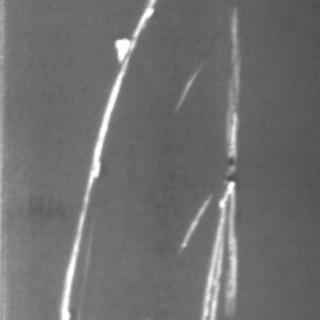scratches: (54, 1, 154, 316), (178, 7, 240, 315)
